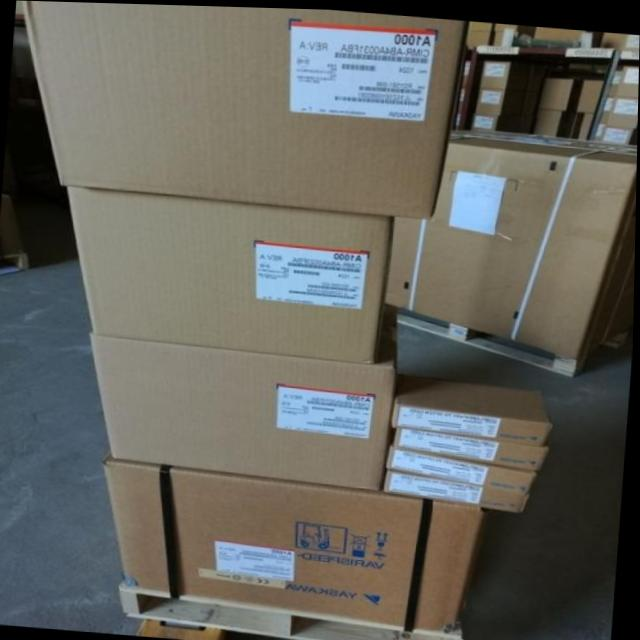box: (21, 0, 469, 218), (104, 446, 493, 628), (386, 125, 638, 354), (68, 185, 394, 362), (89, 331, 398, 485), (392, 369, 553, 444), (388, 442, 538, 492), (394, 424, 549, 469), (387, 467, 531, 509), (524, 74, 573, 108), (516, 103, 563, 134), (608, 93, 639, 126), (475, 85, 506, 114), (480, 57, 510, 85), (599, 28, 640, 47), (616, 61, 639, 94), (532, 23, 584, 37), (467, 18, 492, 43), (492, 20, 517, 43), (471, 112, 499, 128)
